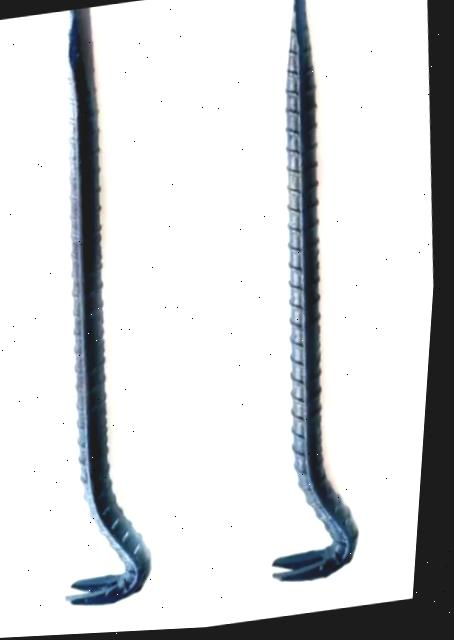crow bar: (40, 6, 179, 616), (263, 0, 382, 595)
